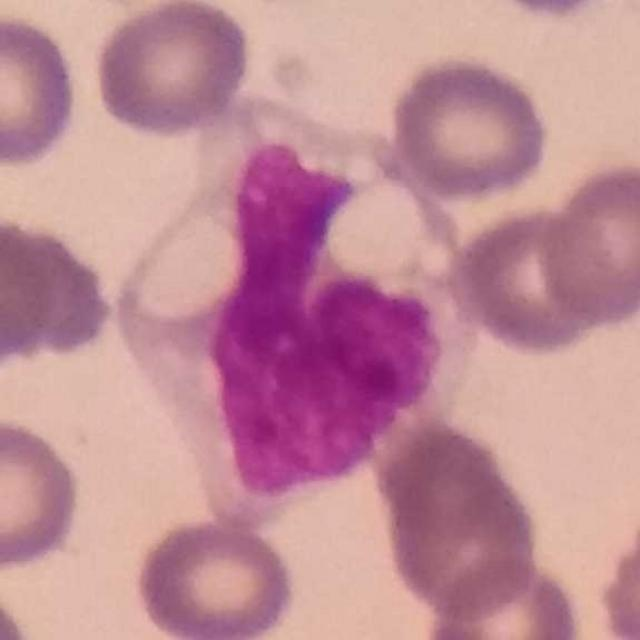mono: (119, 90, 498, 535)
